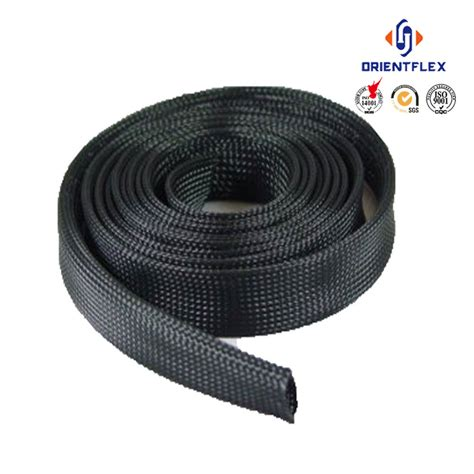nylon: (56, 85, 396, 427)
